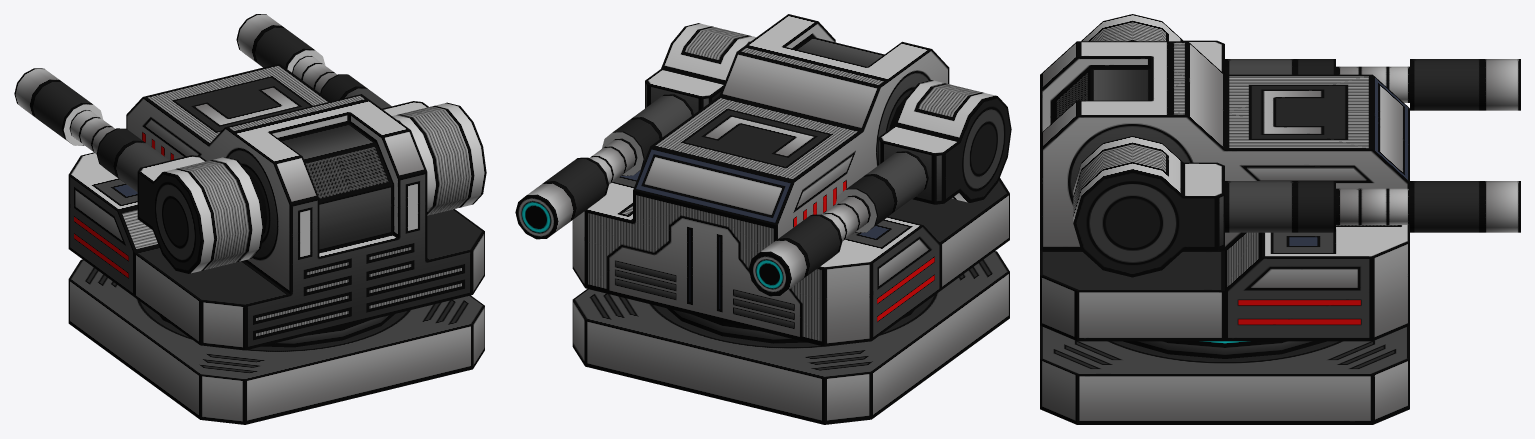
Rendered from turret_large_1.fbx.
3 renders of one model, left to right at view 1: azimuth 30°, elevation 25°; view 2: azimuth 150°, elevation 25°; view 3: azimuth 270°, elevation 25°, orthographic. The views are drawn at different scales.
Visible parts, largest first — view 1: turret_y, base, turret_x, recoil1, recoil2; view 2: turret_y, base, turret_x, recoil2, recoil1; view 3: turret_y, base, turret_x, recoil2, recoil1.
Boxes of the visible parts, x1=… form: turret_y: x1=68, y1=63, x2=484, y2=350; base: x1=68, y1=259, x2=484, y2=424; turret_x: x1=96, y1=74, x2=486, y2=273; recoil1: x1=14, y1=68, x2=114, y2=153; recoil2: x1=236, y1=14, x2=337, y2=92; turret_y: x1=572, y1=14, x2=1009, y2=346; base: x1=572, y1=251, x2=1009, y2=424; turret_x: x1=602, y1=23, x2=1011, y2=232; recoil2: x1=515, y1=138, x2=637, y2=239; recoil1: x1=748, y1=195, x2=870, y2=296; turret_y: x1=1040, y1=41, x2=1409, y2=341; base: x1=1040, y1=325, x2=1409, y2=424; turret_x: x1=1073, y1=14, x2=1335, y2=277; recoil2: x1=1336, y1=181, x2=1520, y2=232; recoil1: x1=1336, y1=59, x2=1520, y2=110.
Bounding box in the file's own units: 200 × 160 × 260.
